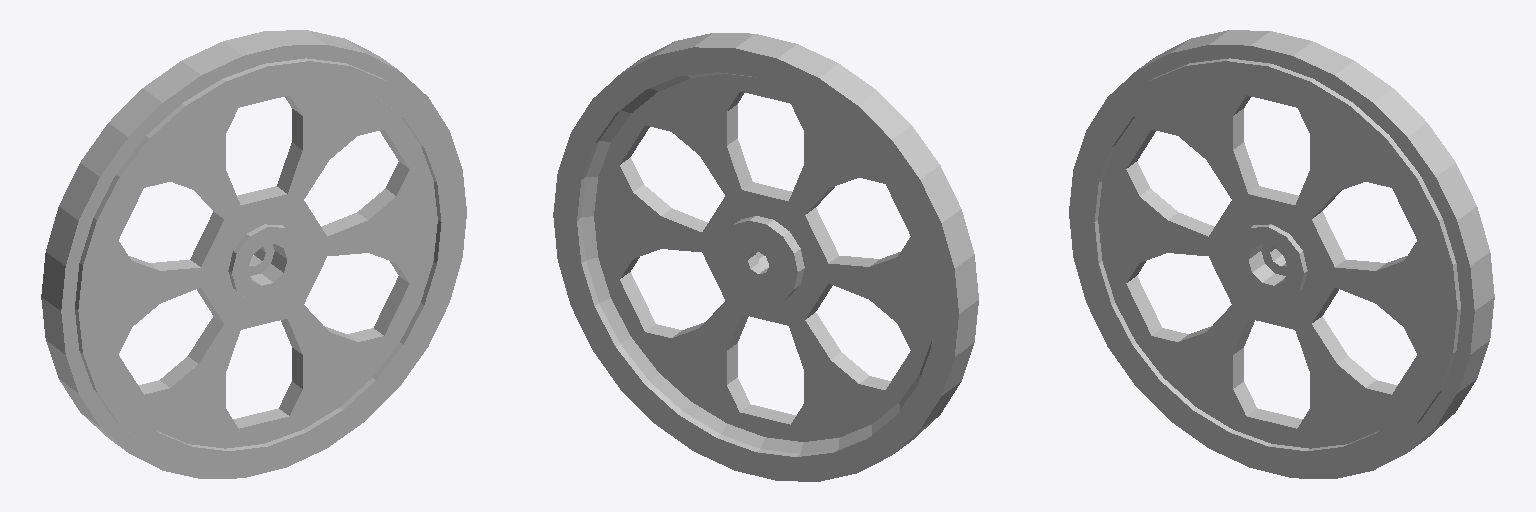
File: better_wheel.obj
3 renders of one model, left to right at view 1: azimuth 30°, elevation 25°; view 2: azimuth 150°, elevation 25°; view 3: azimuth 330°, elevation 25°, orthographic.
Parts seen in each view (by area): view 1: EGR101_wheel; view 2: EGR101_wheel; view 3: EGR101_wheel.
Boxes of the visible parts, <box> form: EGR101_wheel: <box>41,30,466,478</box>; EGR101_wheel: <box>553,33,978,481</box>; EGR101_wheel: <box>1069,30,1494,478</box>.
Size of the model in its own units: 65.28 by 64.92 by 6.61.